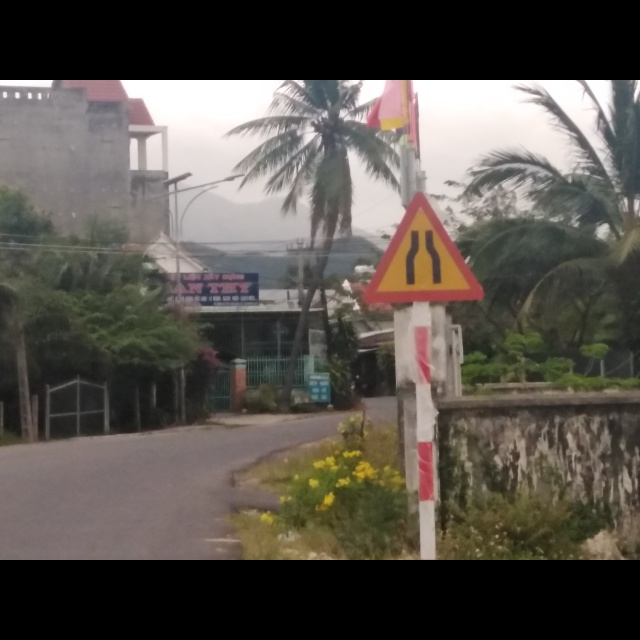Đường bị hẹp cả hai bên: (364, 191, 480, 302)
